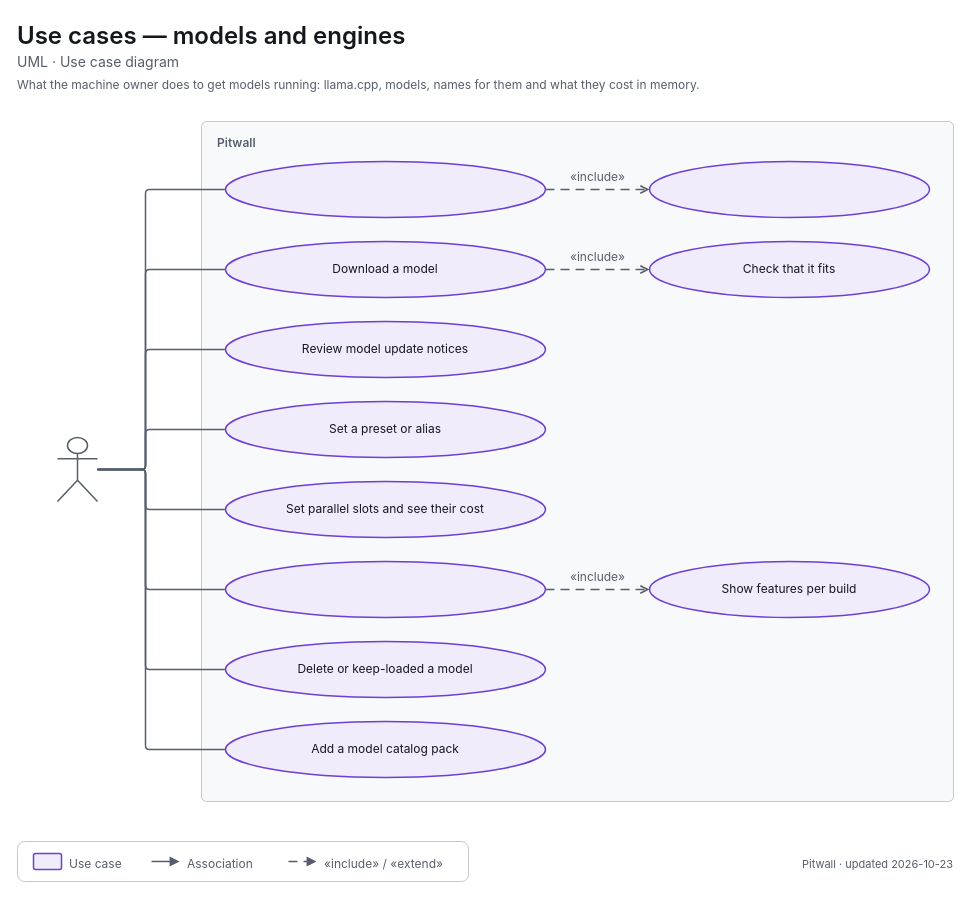
Image size: 971x899. Some labels were removed from this diagram. The centre of each missing label's shape, as x and y in pixels:
"Install or update llama.cpp" goes at point (385, 189).
"Machine owner" goes at point (77, 469).
"Pin or roll back an engine build" goes at point (385, 589).
"Self-test the build" goes at point (789, 189).
